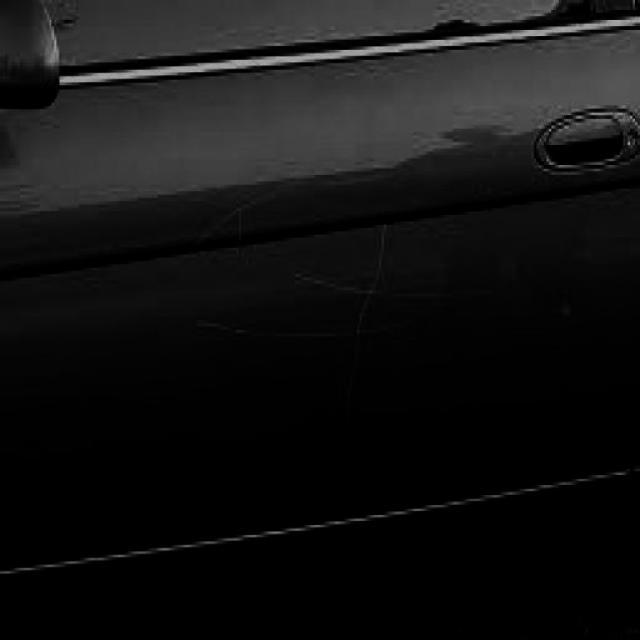car damage: (188, 160, 516, 415)
